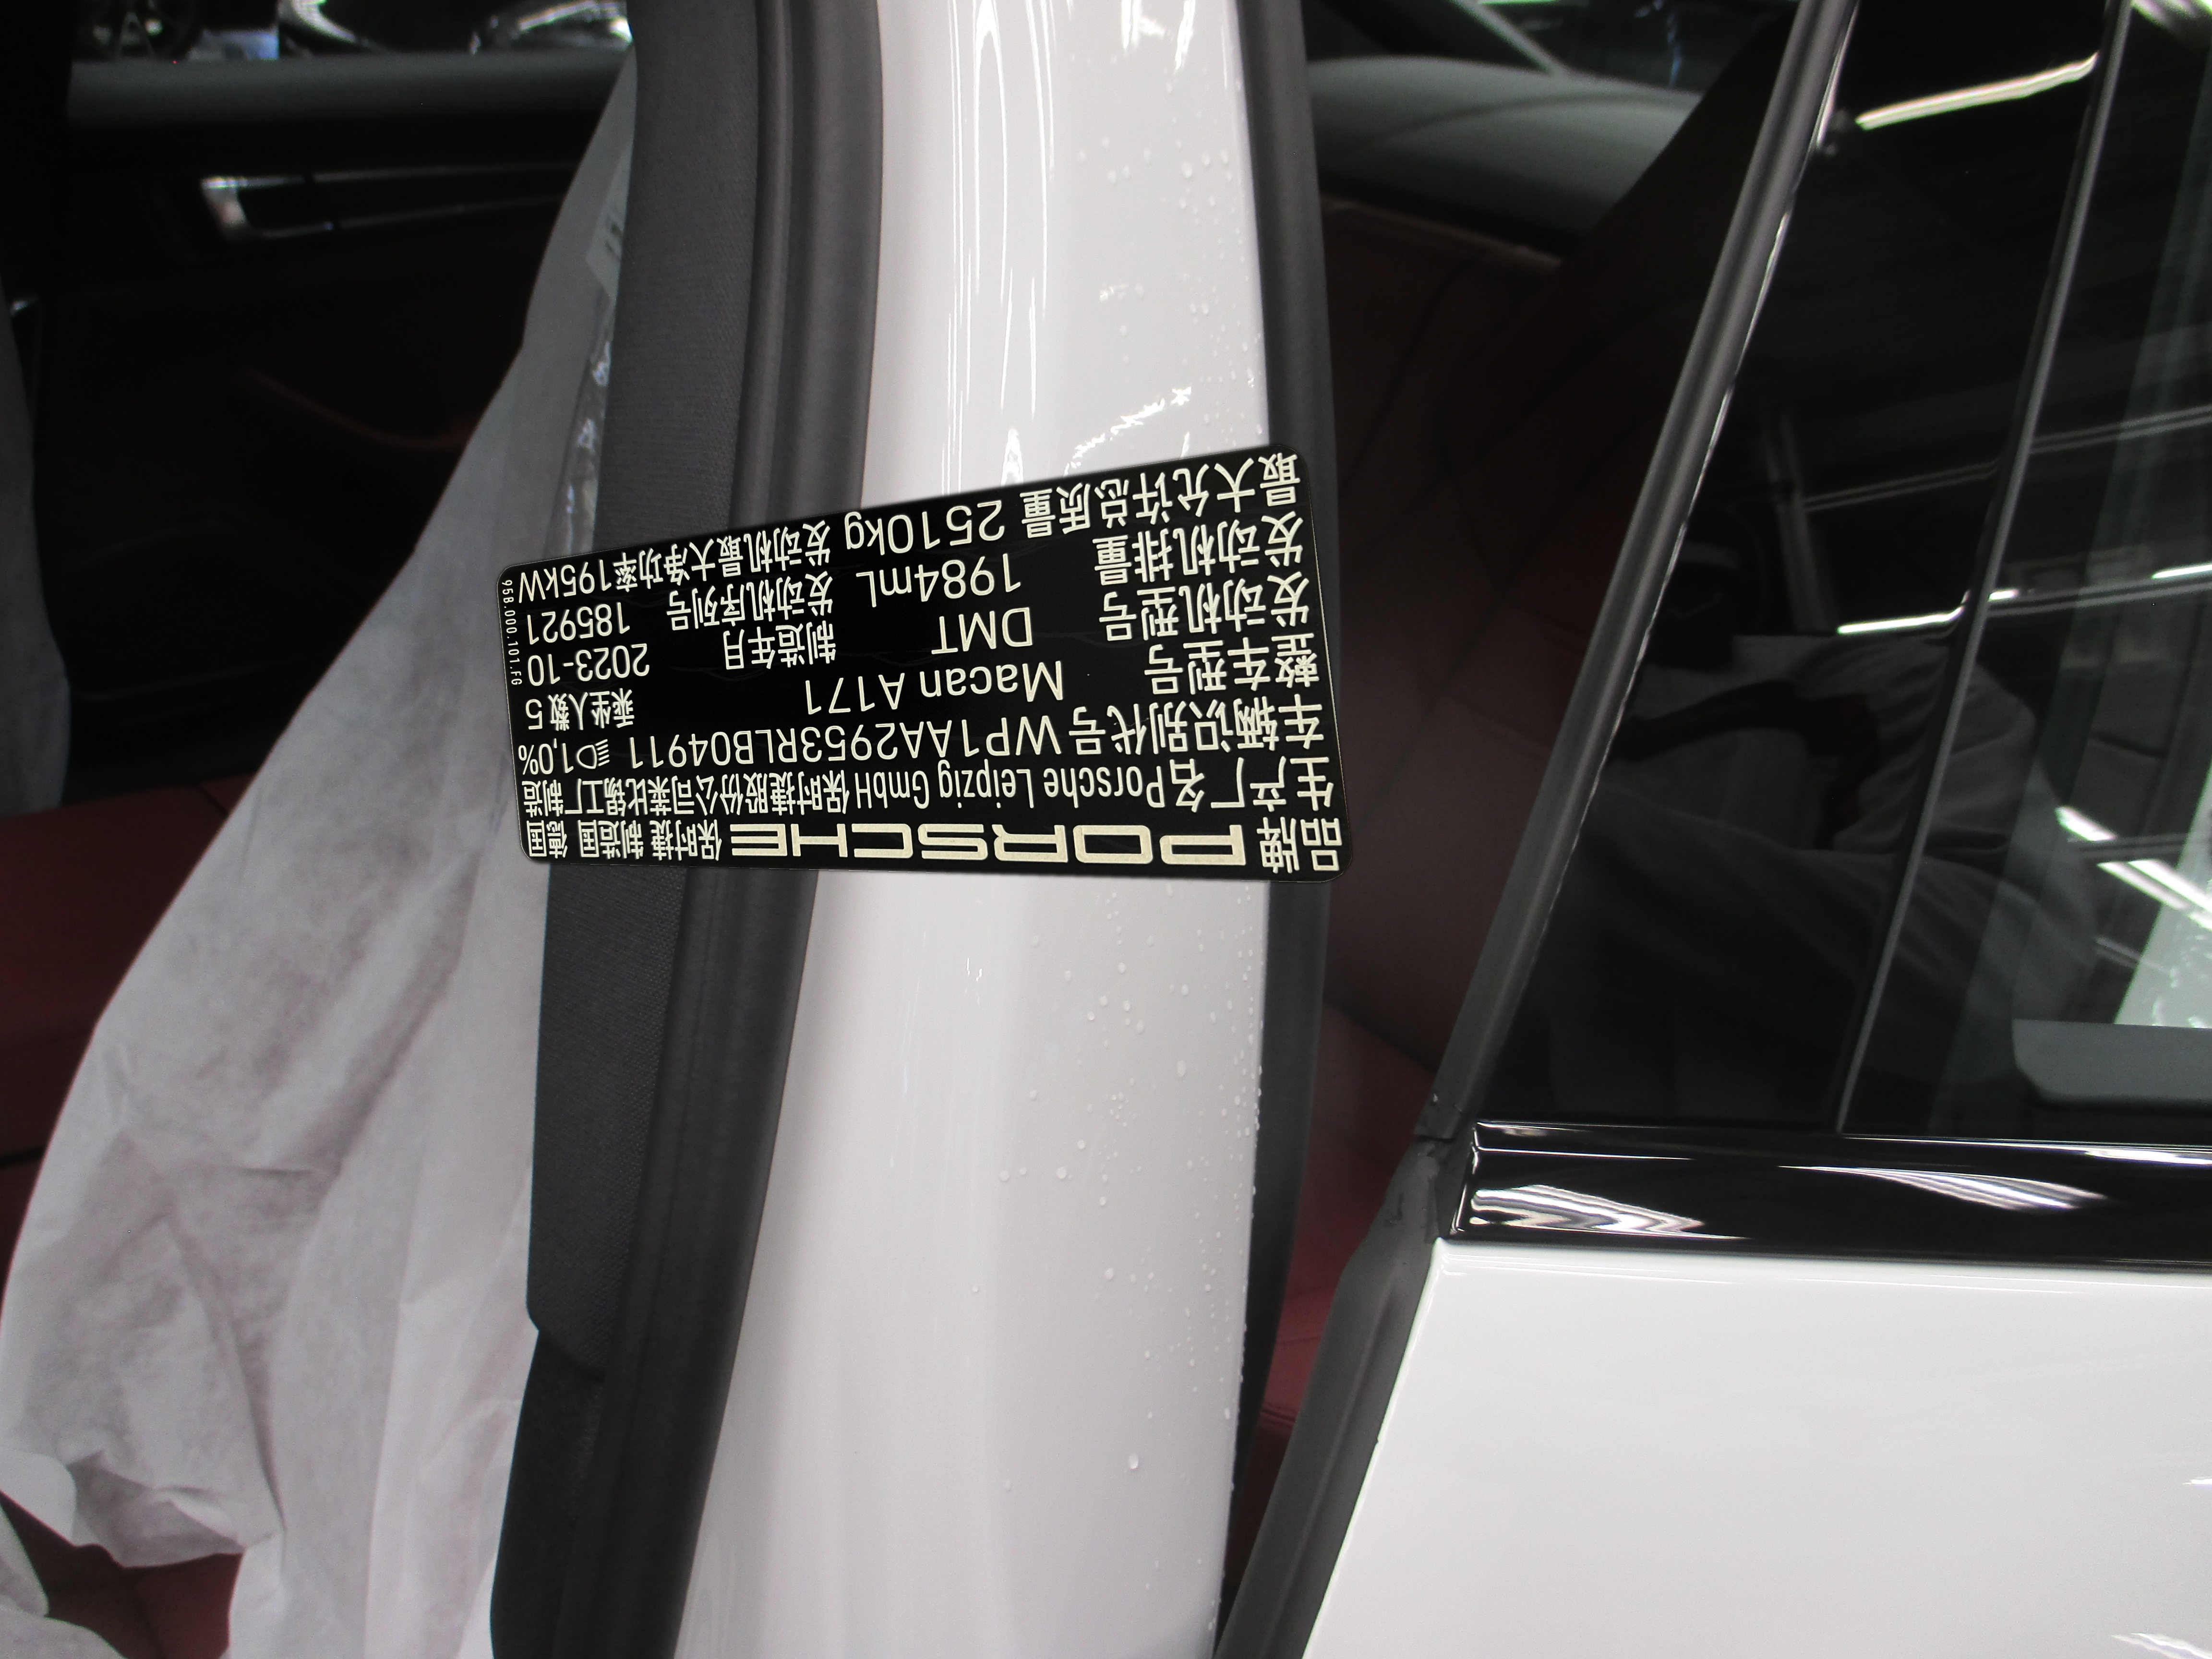Typlabel-China: (496, 444, 1352, 882)
